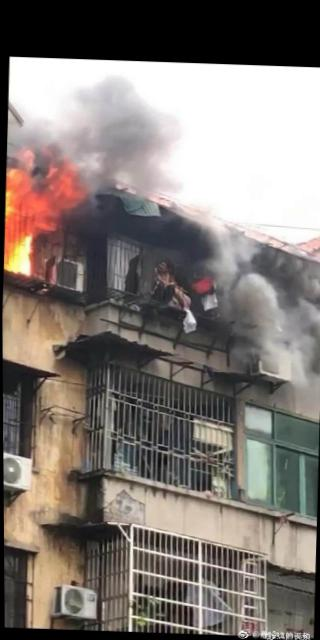fire: (3, 168, 66, 280)
